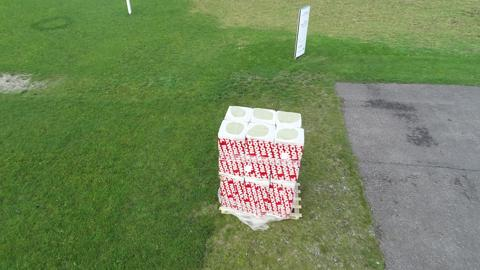RockwoolPallet: (217, 106, 306, 219)
